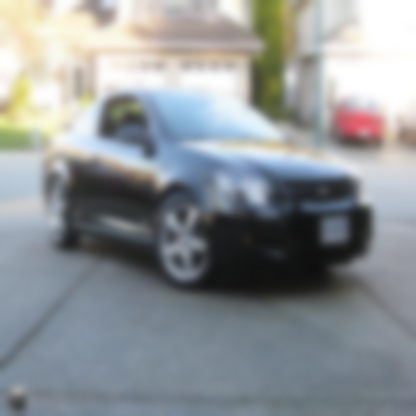Vehicle: (41, 83, 378, 299)
